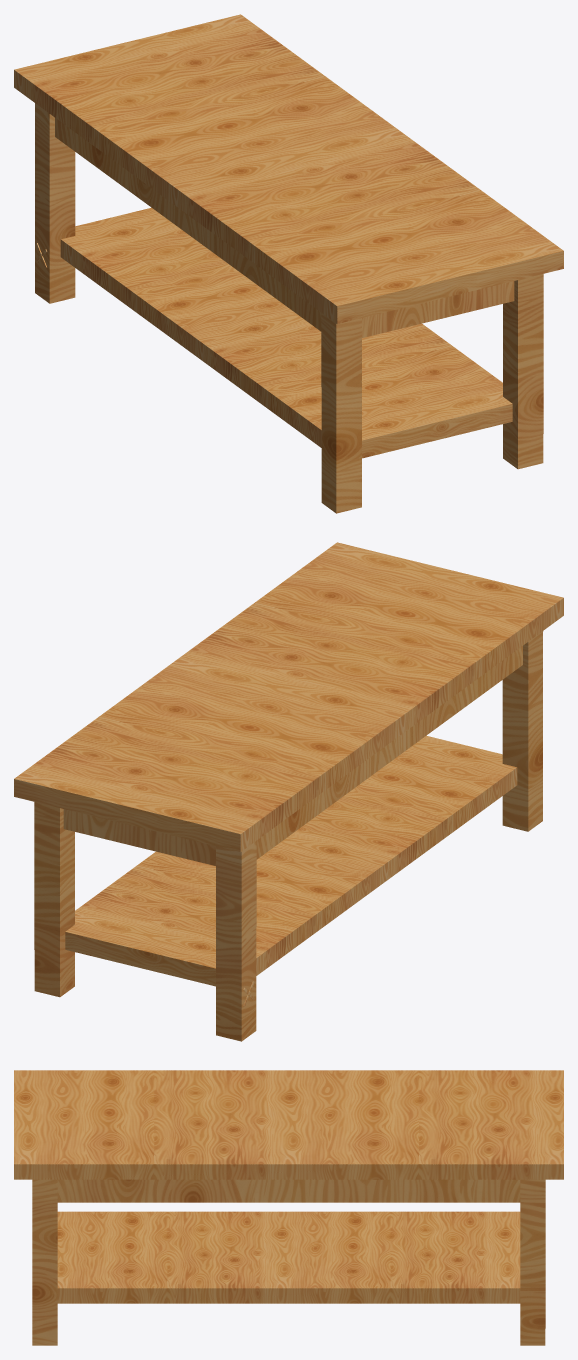
File: Bedroom_Long_Table.fbx
3 views of the same model, one above another, from view 1: azimuth 30°, elevation 25°; view 2: azimuth 150°, elevation 25°; view 3: azimuth 270°, elevation 25° (orthographic). The views are drawn at different scales.
Visible parts, largest first — view 1: Bedroom_Long_Table; view 2: Bedroom_Long_Table; view 3: Bedroom_Long_Table.
Part boxes in pixels (box(x1,y1,x2,y2)): Bedroom_Long_Table: box(14, 14, 563, 513); Bedroom_Long_Table: box(14, 542, 563, 1041); Bedroom_Long_Table: box(14, 1070, 563, 1345).
Size of the model in its own units: 62.49 by 57.74 by 154.
